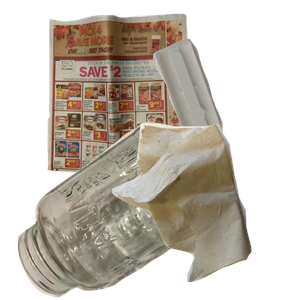glass: (15, 126, 229, 300)
paper: (44, 11, 229, 181)
plastic: (150, 36, 300, 173)
trash: (109, 120, 300, 300)
